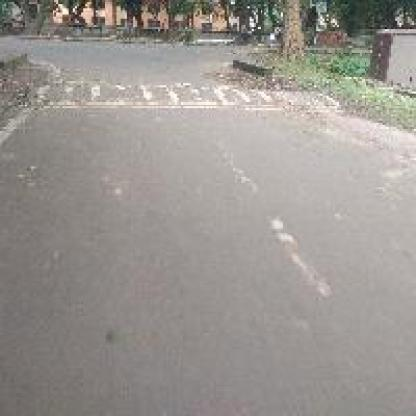Speed Bump: (34, 85, 270, 106)
